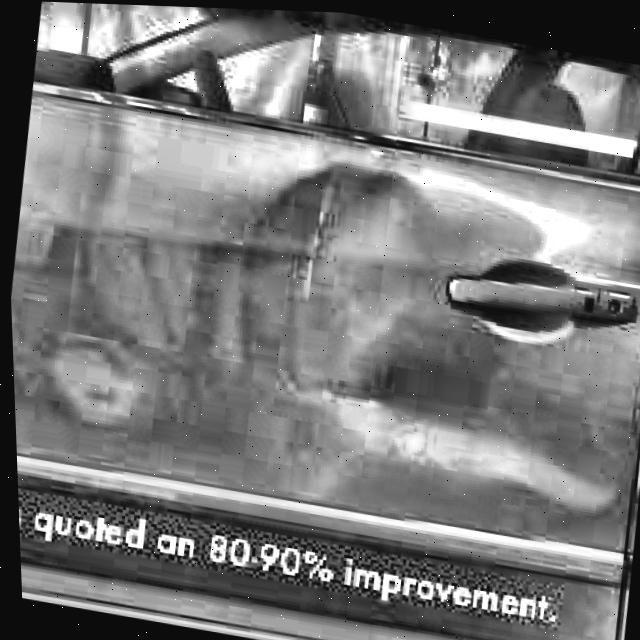door_dent: (323, 381, 619, 529), (255, 156, 431, 352)
